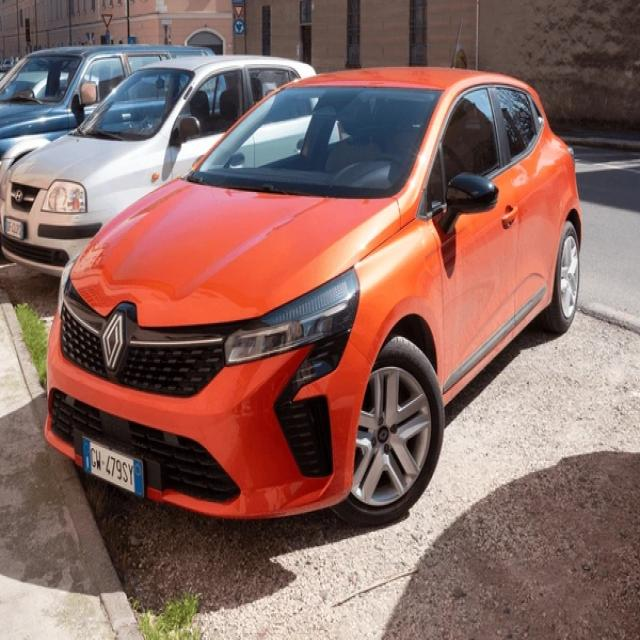renault: (99, 310, 130, 376)
